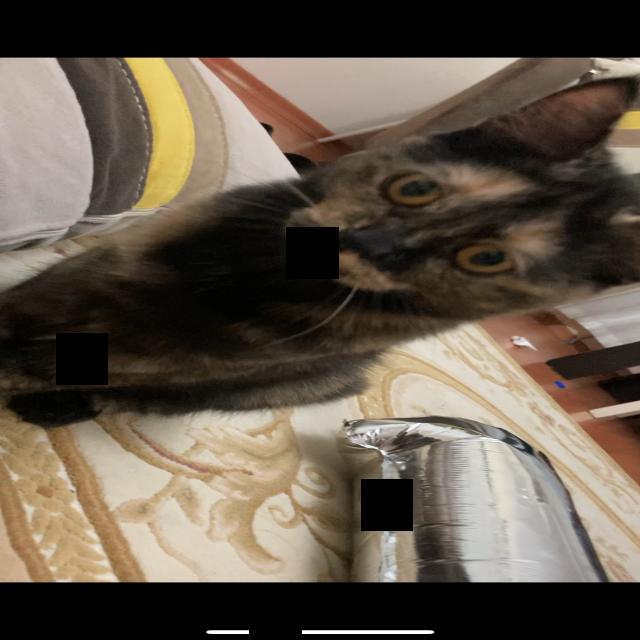authorized: (1, 74, 638, 429)
